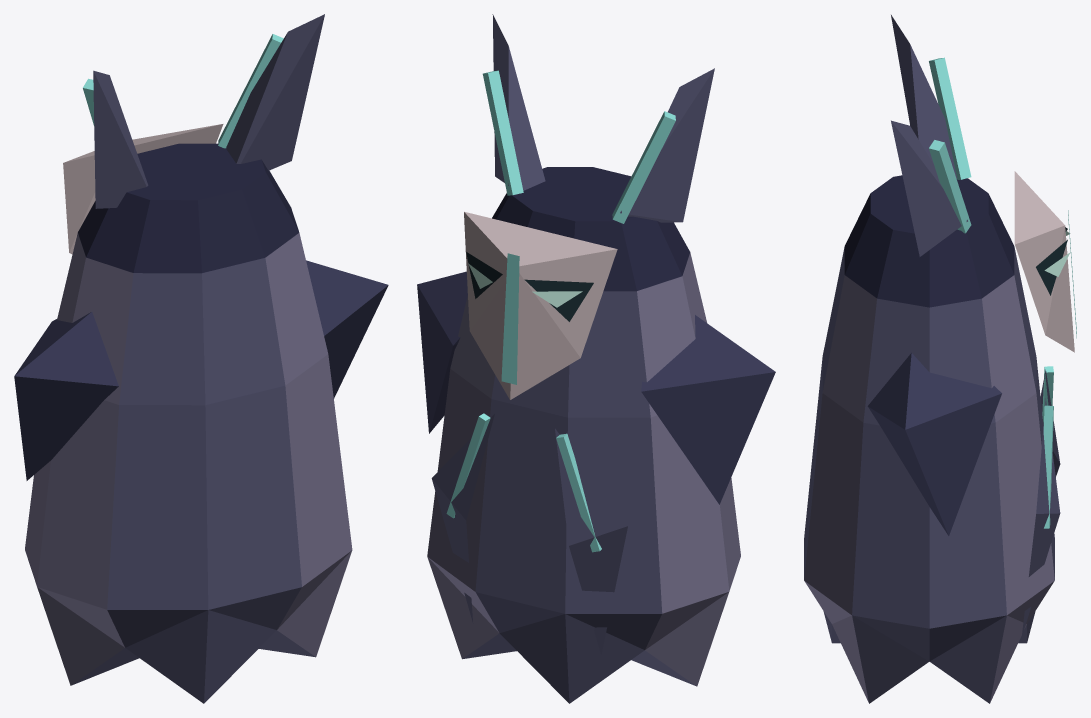
File: Enemy_Shade.fbx
The picture shows the model from 3 angles, left to right: view 1: azimuth 30°, elevation 25°; view 2: azimuth 150°, elevation 25°; view 3: azimuth 270°, elevation 25°; orthographic projection. The views are drawn at different scales.
Visible parts, largest first — view 1: Enemy_Shade; view 2: Enemy_Shade; view 3: Enemy_Shade.
Boxes of the visible parts, x1,y1,x2,y2 form: Enemy_Shade: [14, 14, 388, 703]; Enemy_Shade: [417, 14, 775, 703]; Enemy_Shade: [804, 15, 1076, 703].
Bounding box in the file's own units: 0.84 × 1.35 × 0.5627.
